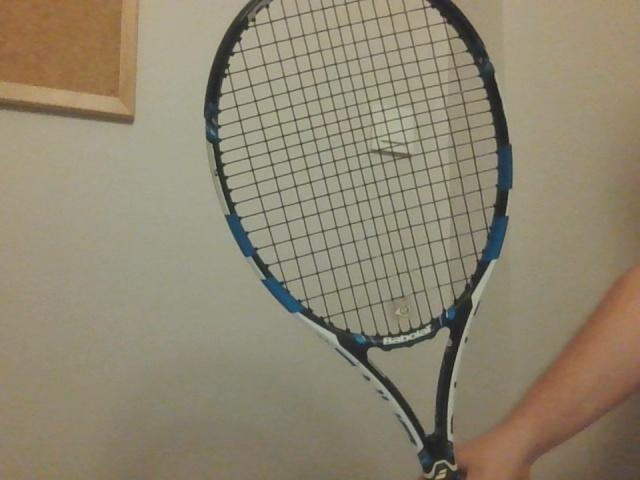Tennis-Racket: (208, 0, 512, 480)
